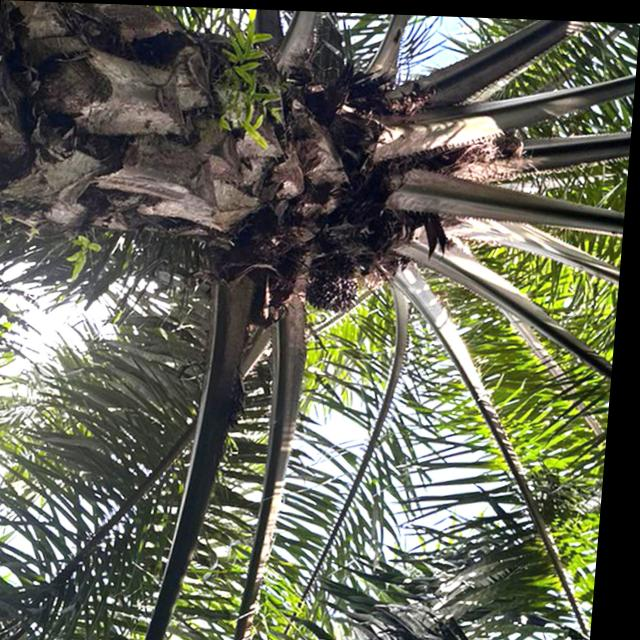almost: (305, 258, 368, 314)
